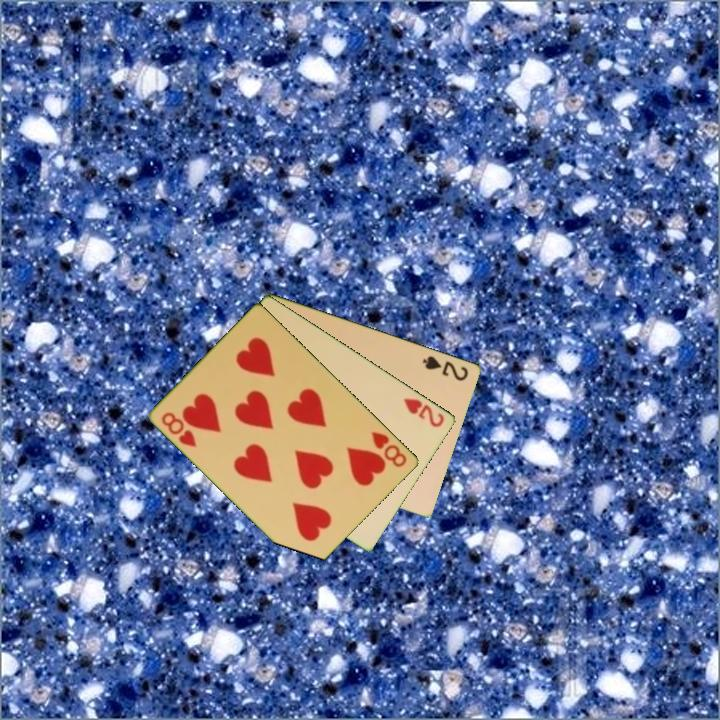2h: (400, 394, 448, 430)
2s: (419, 352, 472, 384)
8h: (368, 427, 410, 470), (158, 408, 200, 451)
